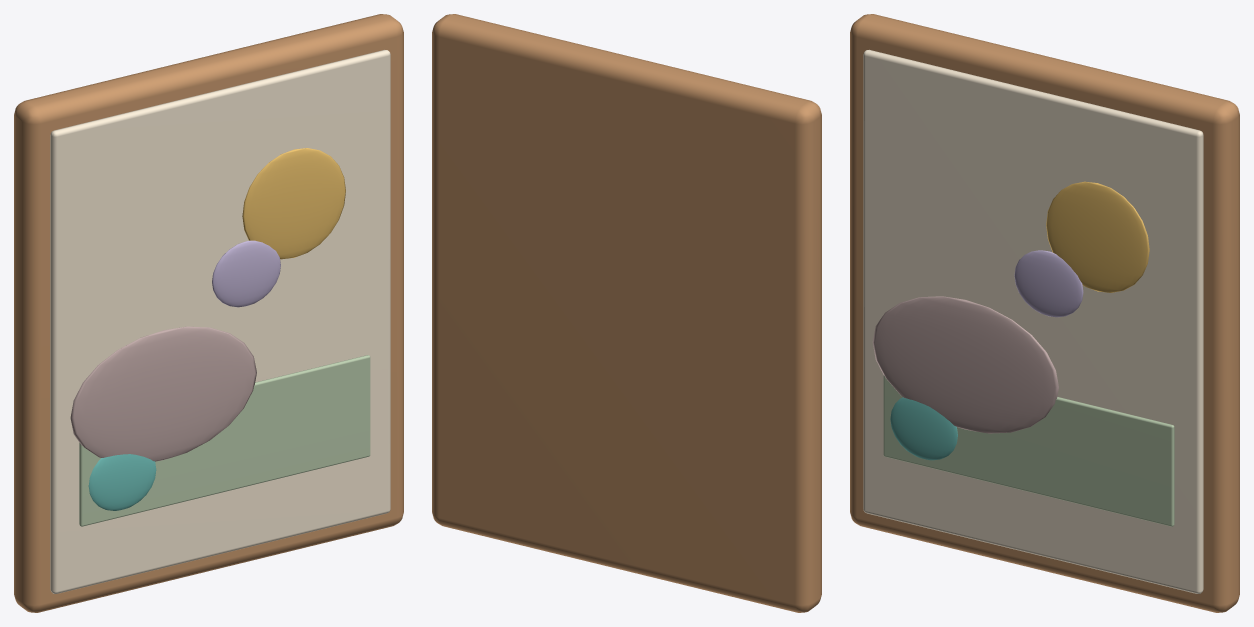
Rendered from officePhotosA.glb.
3 renders of one model, left to right at view 1: azimuth 30°, elevation 25°; view 2: azimuth 150°, elevation 25°; view 3: azimuth 330°, elevation 25°, orthographic.
Parts seen in each view (by area): view 1: Paper, Frame, Landscape, Landscape hill, Illustrated sun, Abstract motif.002, Abstract motif; view 2: Frame; view 3: Paper, Frame, Landscape, Landscape hill, Illustrated sun, Abstract motif.002, Abstract motif.
Part boxes in pixels (box(x1,y1,x2,y2)): Paper: box(50, 49, 390, 593); Frame: box(14, 14, 403, 612); Landscape: box(79, 355, 370, 526); Landscape hill: box(70, 326, 256, 461); Illustrated sun: box(242, 148, 345, 259); Abstract motif.002: box(212, 240, 280, 307); Abstract motif: box(88, 454, 156, 510); Frame: box(432, 14, 821, 612); Paper: box(863, 49, 1203, 593); Frame: box(850, 14, 1239, 612); Landscape: box(883, 375, 1174, 526); Landscape hill: box(872, 296, 1058, 433); Illustrated sun: box(1046, 181, 1149, 292); Abstract motif.002: box(1014, 250, 1083, 317); Abstract motif: box(890, 397, 957, 460).
Size of the model in its own units: 1.1 by 1.4 by 0.15.
